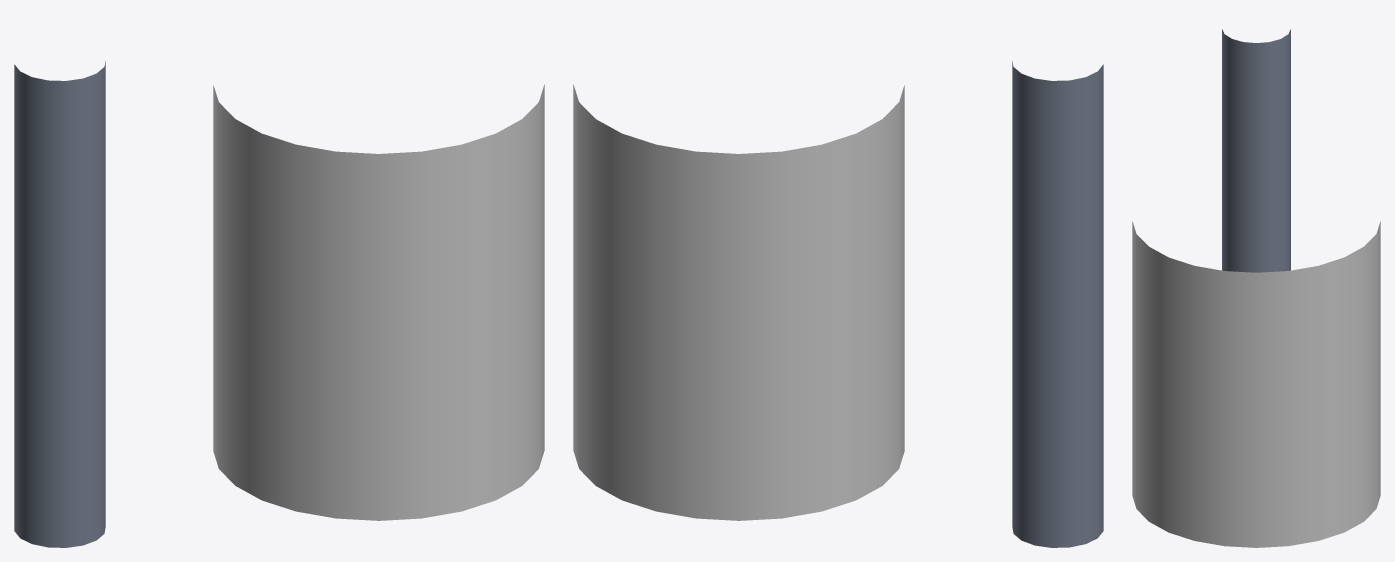
File: thermal_power_plant.glb
3 renders of one model, left to right at view 1: azimuth 30°, elevation 25°; view 2: azimuth 150°, elevation 25°; view 3: azimuth 270°, elevation 25°, orthographic. The views are drawn at different scales.
Visible parts, largest first — view 1: HyperbolicCoolingTower, BoilerChimneyStack; view 2: HyperbolicCoolingTower, BoilerChimneyStack; view 3: HyperbolicCoolingTower, BoilerChimneyStack.
Part boxes in pixels (x1,y1,x2,y2): HyperbolicCoolingTower: [213, 84, 544, 520]; BoilerChimneyStack: [14, 61, 105, 547]; HyperbolicCoolingTower: [573, 84, 904, 520]; BoilerChimneyStack: [1012, 61, 1103, 547]; HyperbolicCoolingTower: [1132, 221, 1380, 547]; BoilerChimneyStack: [1222, 29, 1290, 272].
Size of the model in its own units: 3.15 by 2.8 by 1.8.
